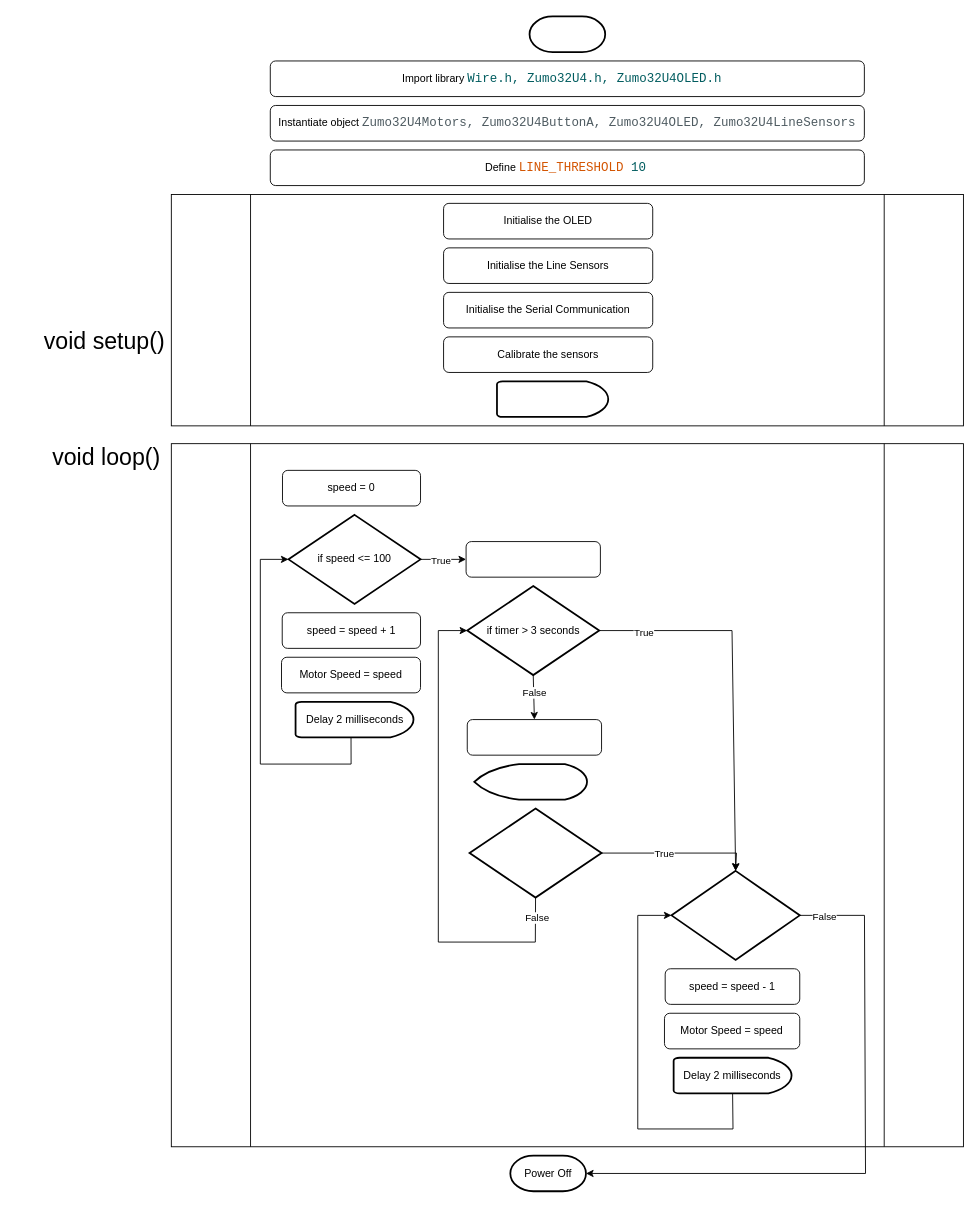
This 979x1207 diagram has some shape labels left out. The centre of each missing label's shape, as x and y in pixels:
"Delay 1 second" belongs at pixel 552 398.
"Display the output" belongs at pixel 530 781.
"if sensor value > LINE_THRESHOLD" belongs at pixel 535 852.
"if speed > 0" belongs at pixel 735 915.
"Power On" belongs at pixel 567 34.
"Read the sensors" belongs at pixel 534 737.
"Start the timer" belongs at pixel 532 559.
